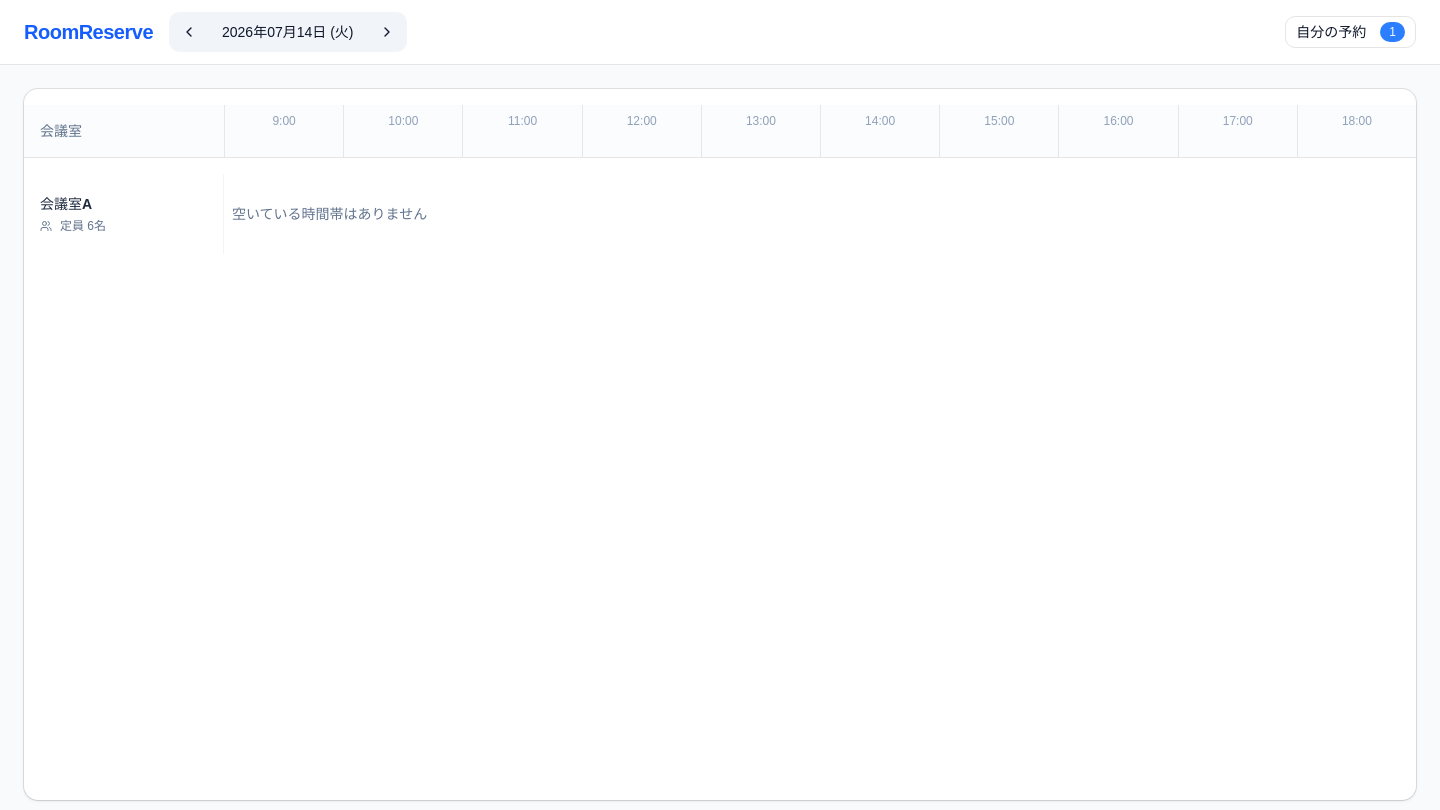
it: 自分の予約(RFE-C) › 別の画面で既にキャンセル済みの予約を、もう一度キャンセルしようとして拒否される
Click the button "自分の予約 1": (1351, 32) [1285, 16, 1416, 48]
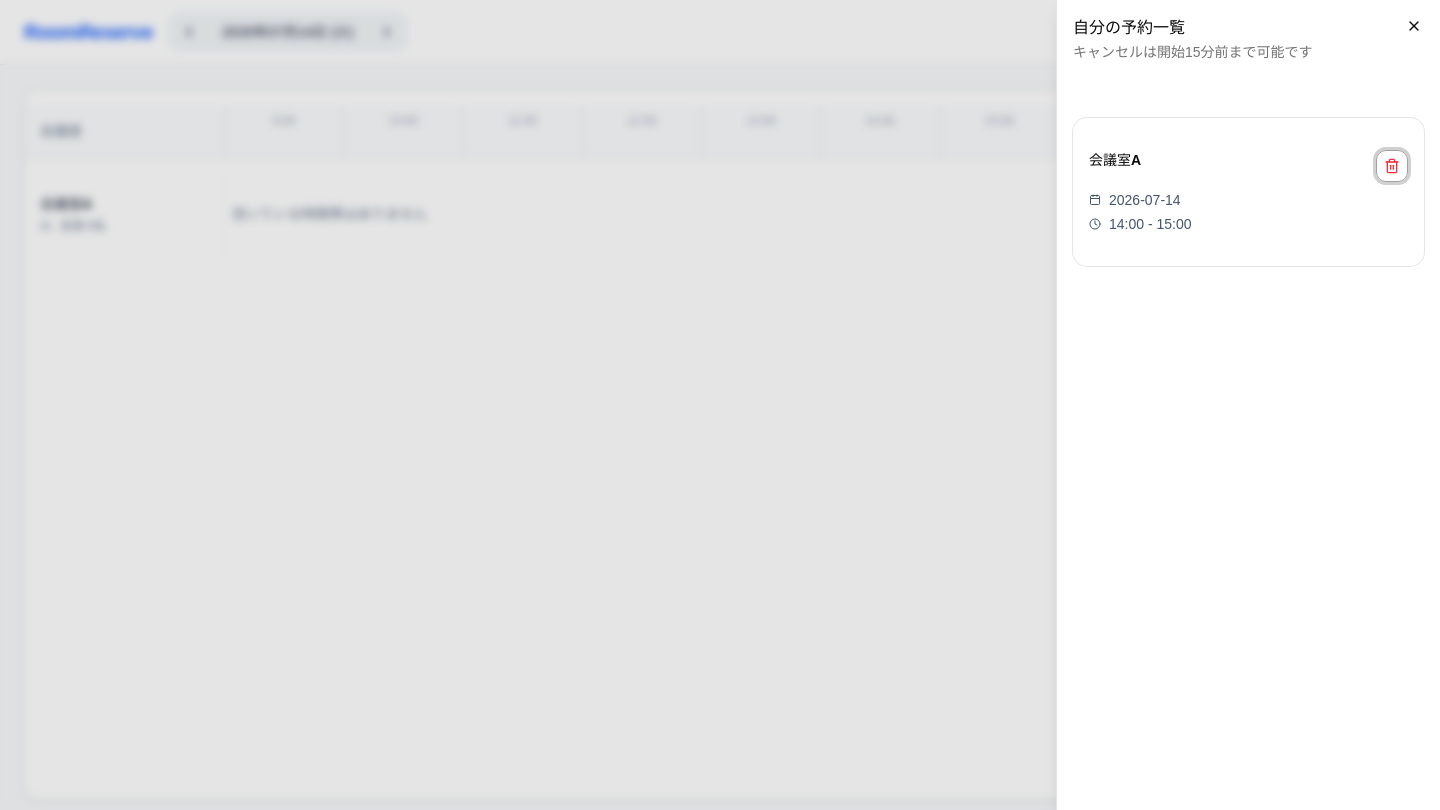
Click the button named "キャンセル": (1392, 166) [1376, 150, 1408, 182]
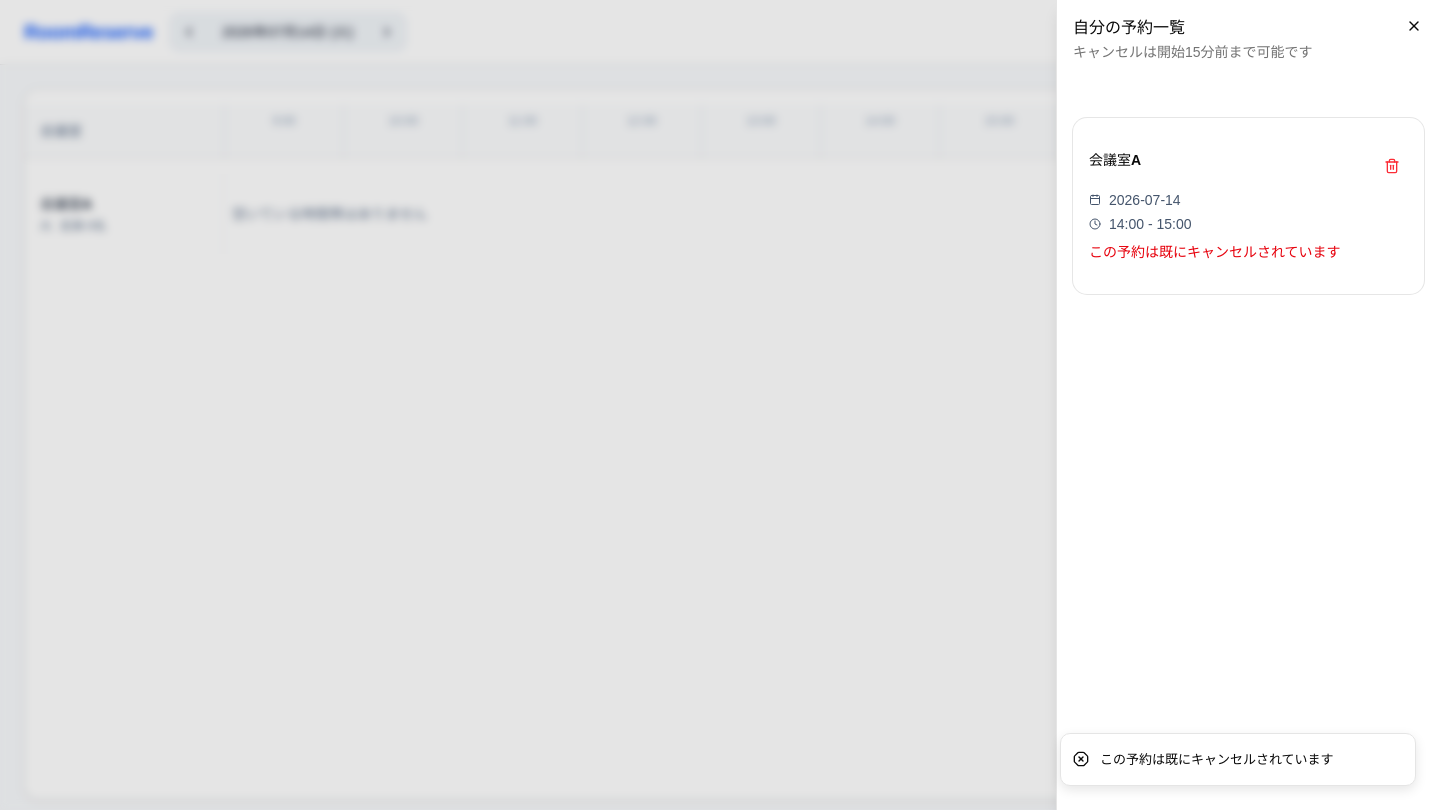
Check: the message reads "この予約は既にキャンセルされています", box [1089, 244, 1341, 260]
